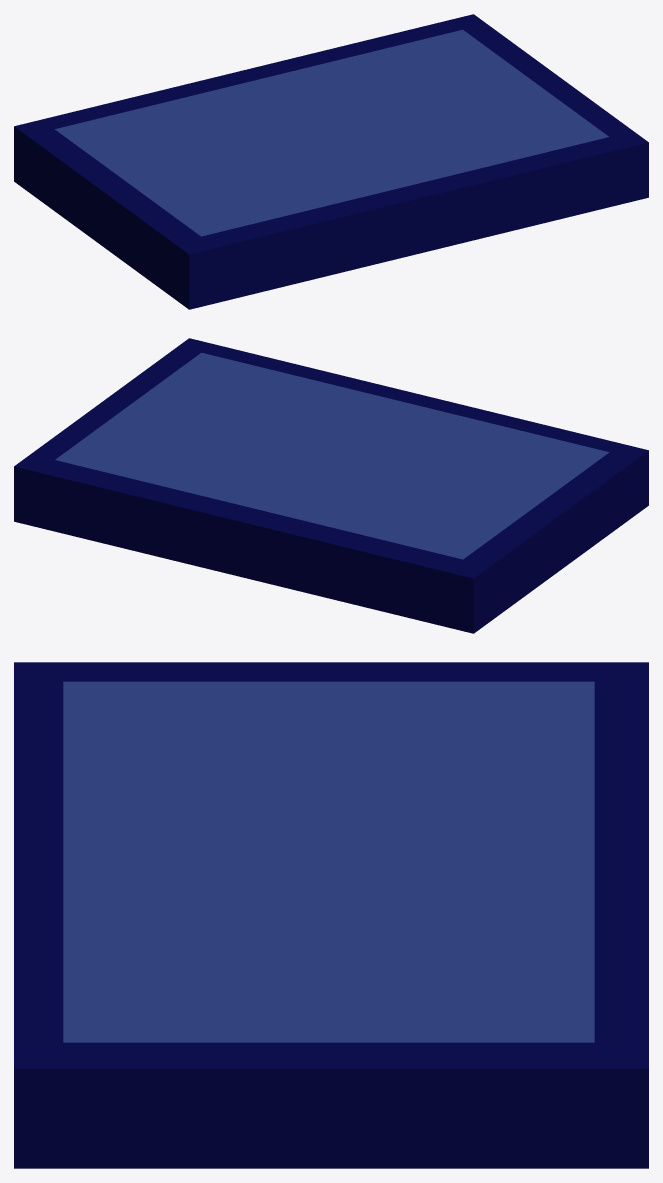
File: MrTablet.obj
3 renders of one model, top to bottom at view 1: azimuth 30°, elevation 25°; view 2: azimuth 150°, elevation 25°; view 3: azimuth 270°, elevation 25°, orthographic. The views are drawn at different scales.
Parts seen in each view (by area): view 1: tablet1_pPlane1, tablet1_pCube1; view 2: tablet1_pPlane1, tablet1_pCube1; view 3: tablet1_pPlane1, tablet1_pCube1.
Part boxes in pixels (x1=…): tablet1_pPlane1: x1=55, y1=29, x2=608, y2=236; tablet1_pCube1: x1=14, y1=14, x2=648, y2=309; tablet1_pPlane1: x1=55, y1=352, x2=609, y2=559; tablet1_pCube1: x1=14, y1=338, x2=648, y2=633; tablet1_pPlane1: x1=63, y1=681, x2=594, y2=1042; tablet1_pCube1: x1=14, y1=662, x2=648, y2=1168.
Bounding box in the file's own units: 6.05 × 0.7163 × 3.99.
